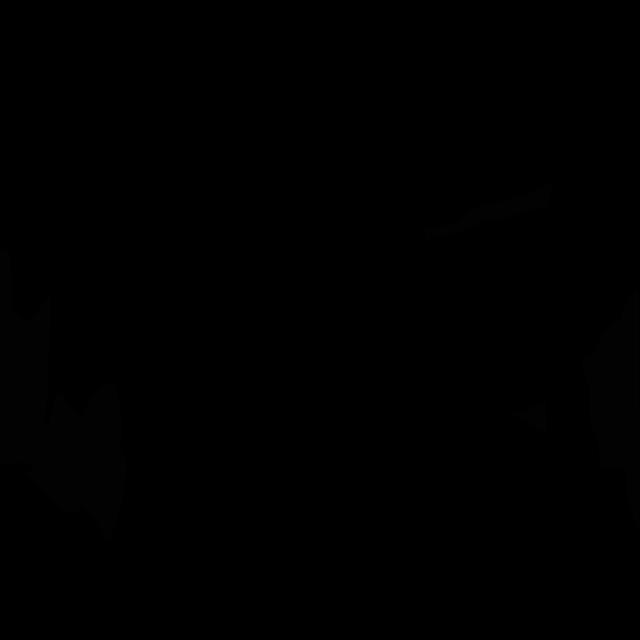cardboard: (27, 380, 126, 543), (580, 289, 640, 531), (0, 246, 51, 470), (425, 182, 554, 240), (508, 400, 547, 435)
